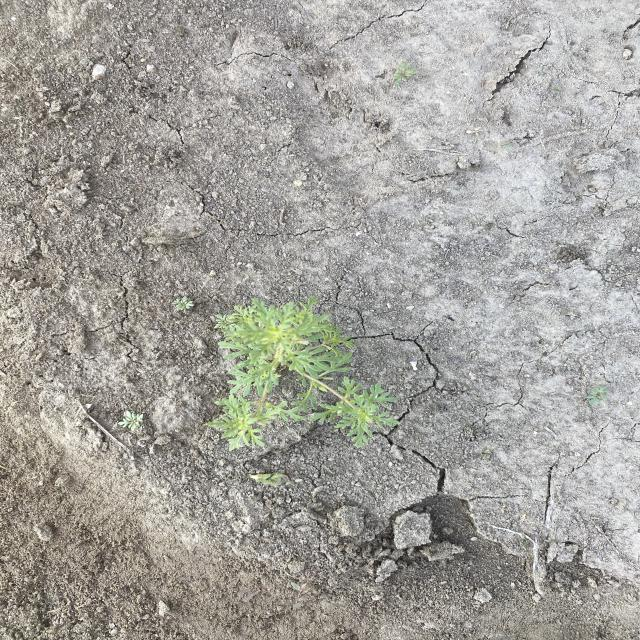Ragweed: (203, 292, 405, 453)
